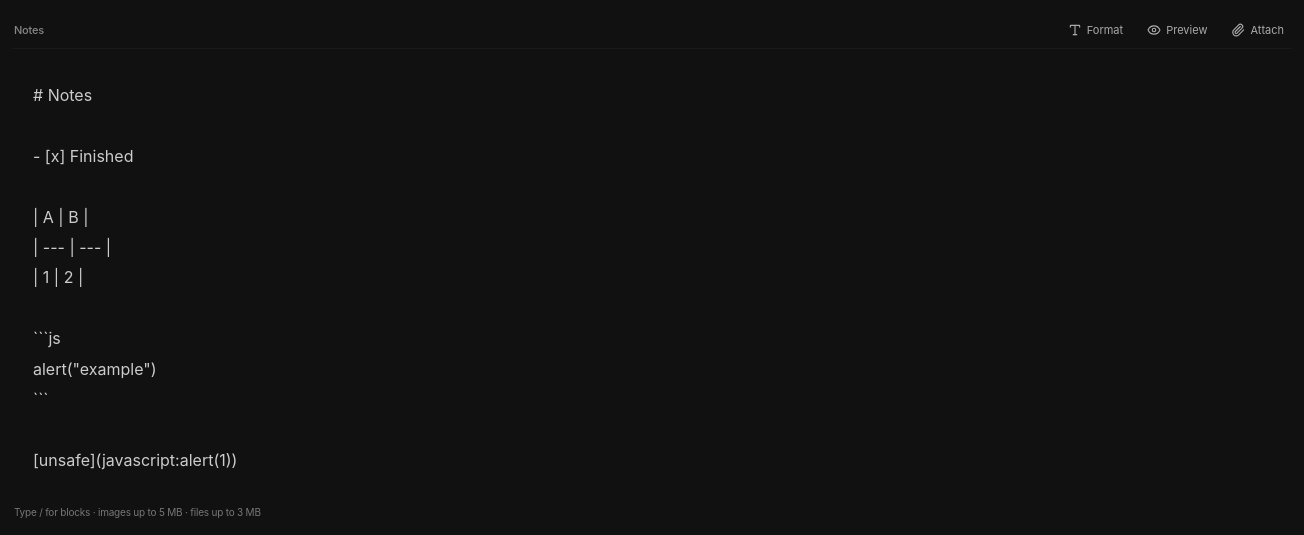
Scenario: Shared Markdown composer › renders checklists, tables and code safely in the same document preview
Click the button "Preview". click: coordinates (1177, 30)
box: [1141, 22, 1214, 38]
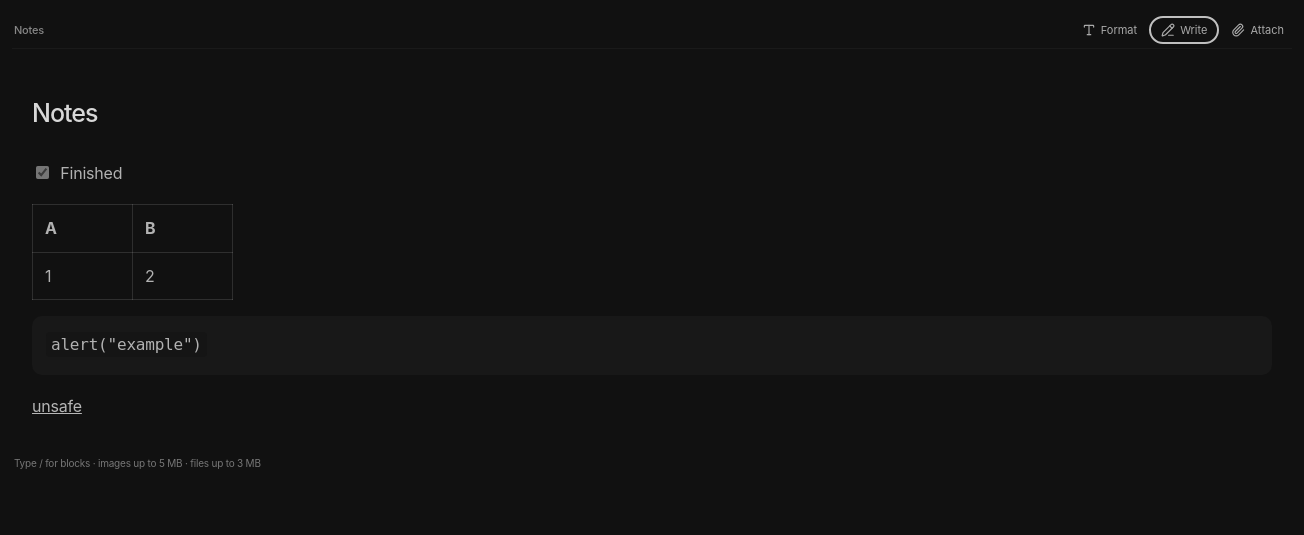
Check: the heading "Notes" is shown, box [32, 98, 97, 128]
Check: the checkbox is checked, box [36, 166, 49, 179]
Check: the table is shown, box [32, 204, 1272, 300]
